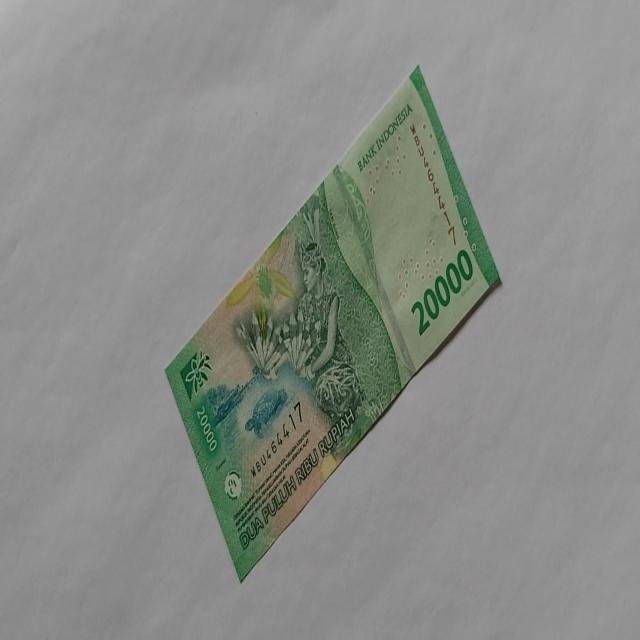dua puluh ribu rupiah: (163, 63, 502, 582), (409, 247, 474, 337)
